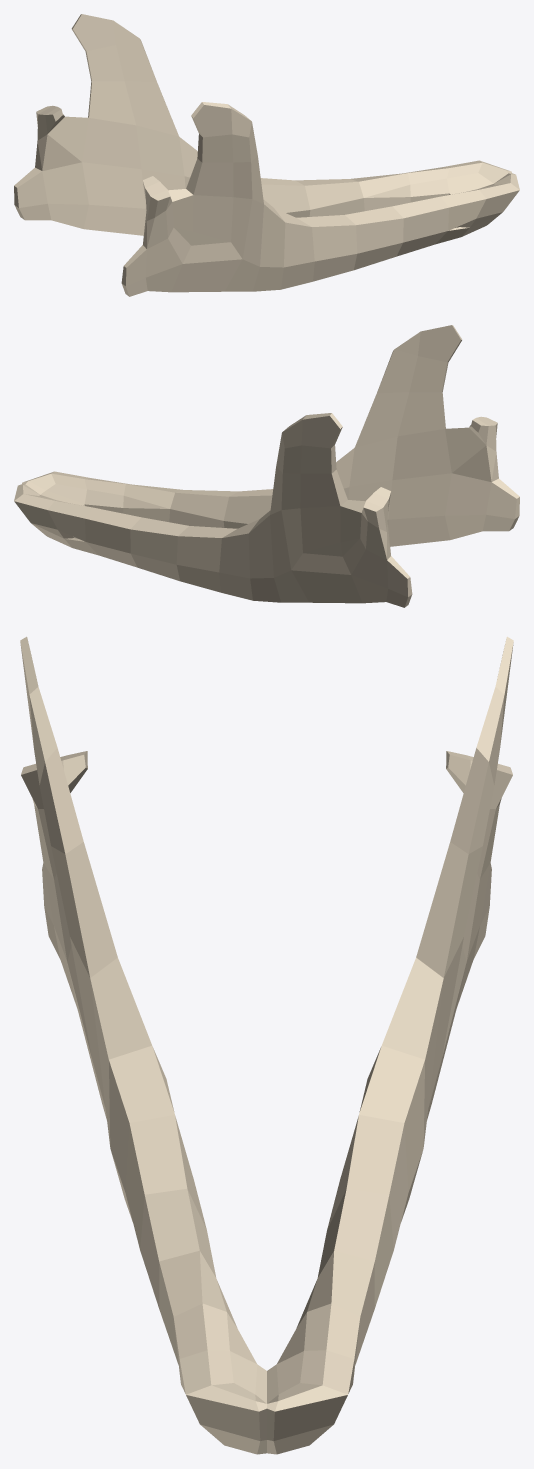
File: wolf skull bottom.fbx
The picture shows the model from 3 angles, top to bottom: view 1: azimuth 30°, elevation 25°; view 2: azimuth 150°, elevation 25°; view 3: azimuth 270°, elevation 25°; orthographic projection. The views are drawn at different scales.
Visible parts, largest first — view 1: Skull Bottom; view 2: Skull Bottom; view 3: Skull Bottom.
Boxes of the visible parts, x1=… form: Skull Bottom: x1=14, y1=14, x2=519, y2=296; Skull Bottom: x1=14, y1=325, x2=519, y2=607; Skull Bottom: x1=20, y1=636, x2=513, y2=1454.
Bounding box in the file's own units: 16.88 × 8.85 × 8.13.
